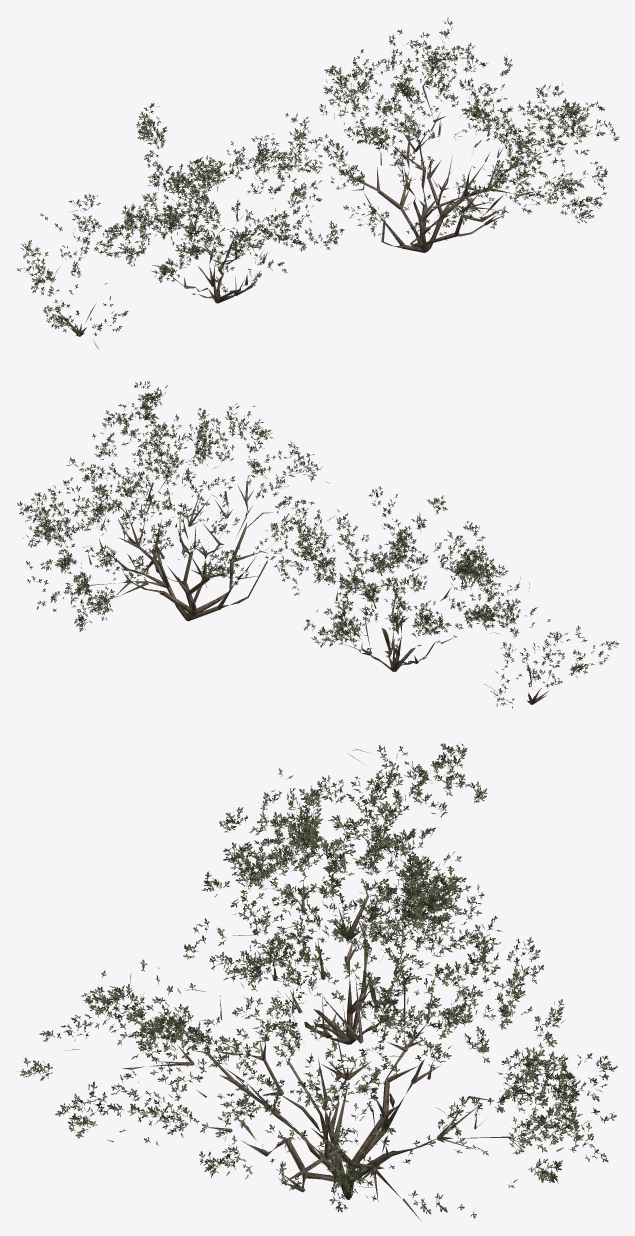
The model's file is searsia_burchellii.glb.
3 renders of one model, top to bottom at view 1: azimuth 30°, elevation 25°; view 2: azimuth 150°, elevation 25°; view 3: azimuth 270°, elevation 25°, orthographic. The views are drawn at different scales.
Parts seen in each view (by area): view 1: searsia_burchellii_large_LOD0; view 2: searsia_burchellii_large_LOD0; view 3: searsia_burchellii_large_LOD0.
Boxes of the visible parts, bbox=[...] form: searsia_burchellii_large_LOD0: bbox=[17, 17, 619, 349]; searsia_burchellii_large_LOD0: bbox=[17, 381, 618, 708]; searsia_burchellii_large_LOD0: bbox=[18, 743, 617, 1220].
Bounding box in the file's own units: 8.06 × 3.08 × 4.95.
2 materials, 2 textured.
